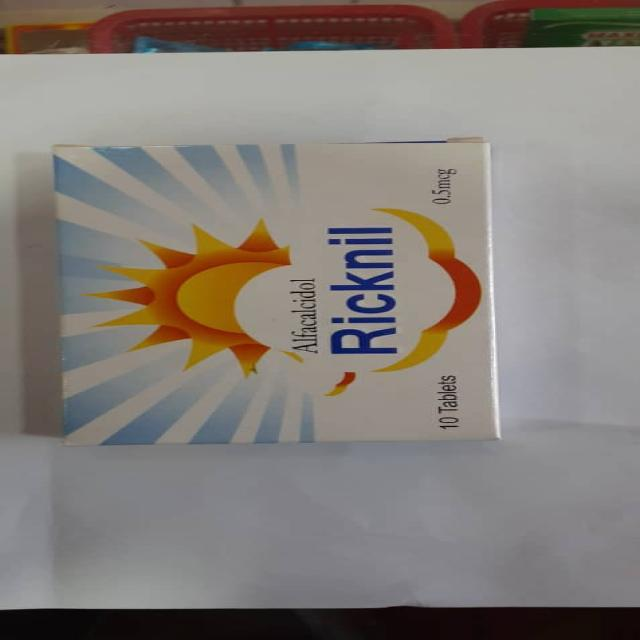drug-name: (325, 216, 403, 358)
